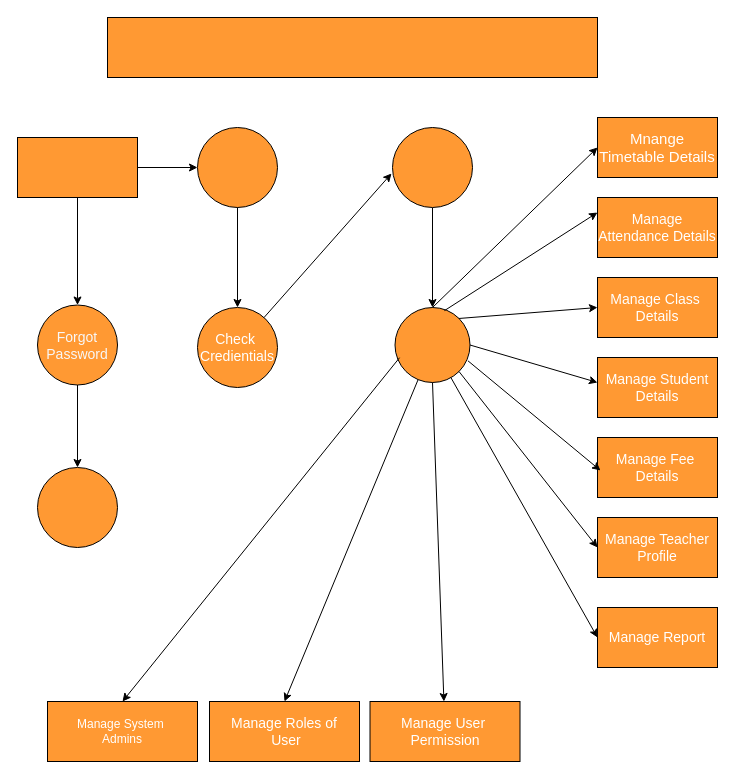
The diagram is 735 pixels wide and 779 high, and some of its shapes have lost their labels. Each missing label, with the box of its shape:
Admin: (16, 136, 138, 198)
Check Roles Of Access: (392, 126, 472, 208)
Login to systems: (196, 126, 278, 208)
Manage Profile: (394, 306, 470, 382)
Send Email to User: (36, 466, 118, 548)
Student Information System: (106, 16, 598, 78)
